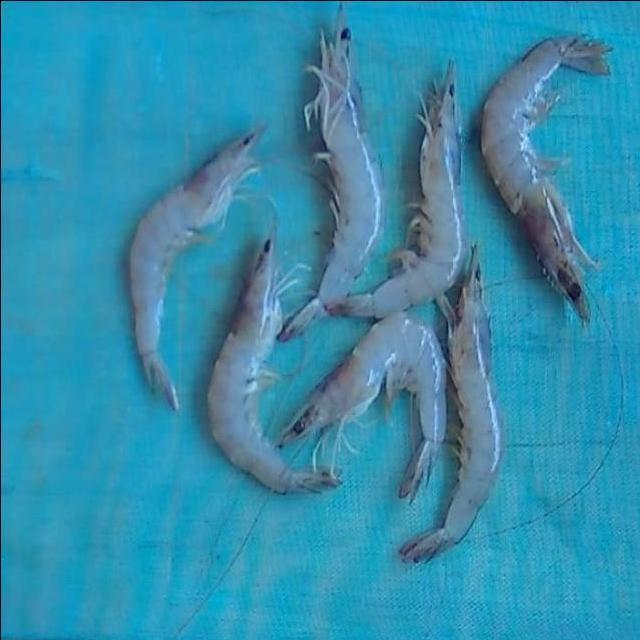shrimp: (481, 36, 610, 322), (129, 130, 260, 409), (327, 65, 467, 316), (206, 231, 339, 494), (278, 8, 383, 339), (400, 245, 503, 562), (278, 312, 446, 500)
